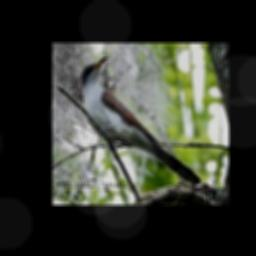Cuckoo: (81, 57, 201, 185)
